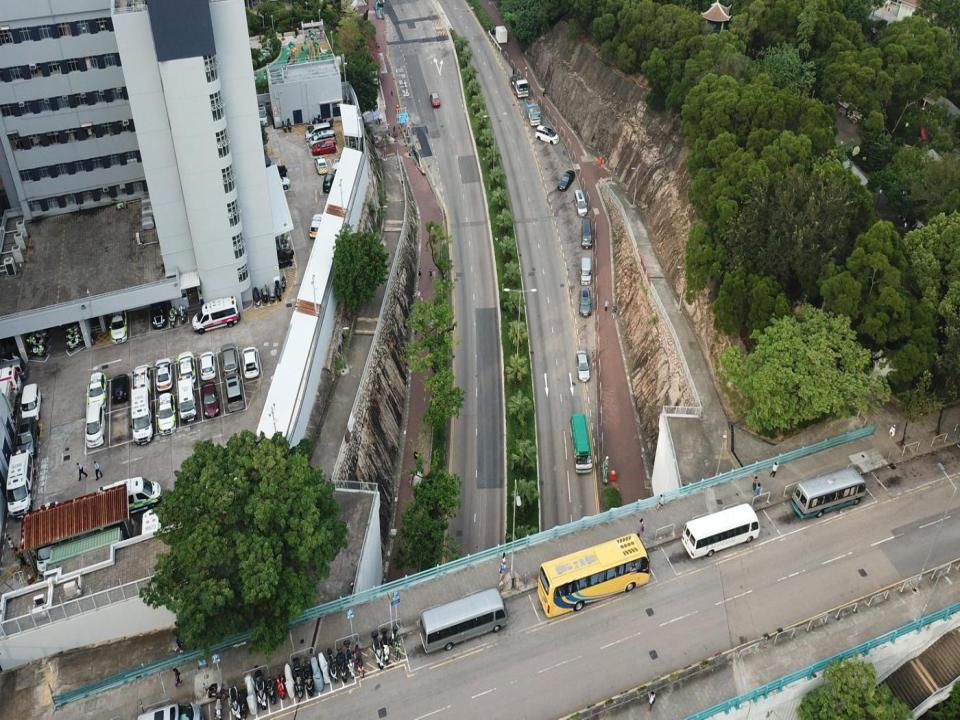bus: (538, 534, 650, 616), (420, 587, 507, 652), (681, 502, 759, 559), (789, 466, 865, 521), (570, 413, 592, 473)
car: (86, 371, 108, 411), (156, 392, 176, 435), (108, 307, 128, 344), (132, 364, 152, 398), (202, 381, 220, 418), (154, 357, 173, 391), (177, 351, 196, 385), (220, 343, 238, 378), (241, 346, 259, 379), (111, 374, 130, 402), (199, 351, 216, 380), (150, 299, 166, 329), (576, 350, 590, 382), (308, 214, 326, 238), (558, 170, 575, 191), (266, 176, 290, 190), (332, 158, 352, 174), (313, 156, 328, 174), (430, 91, 440, 108)
truck: (508, 74, 530, 99), (524, 96, 541, 126)
van: (96, 476, 163, 517), (35, 500, 65, 576), (6, 450, 36, 518), (191, 295, 240, 334), (130, 384, 153, 444), (141, 507, 166, 554), (136, 703, 205, 719), (15, 417, 40, 458), (85, 402, 106, 447), (178, 375, 197, 422), (19, 383, 42, 421), (0, 366, 22, 396), (0, 357, 27, 381), (304, 121, 330, 142), (535, 124, 559, 144), (309, 130, 335, 148), (574, 188, 588, 217), (579, 287, 592, 315), (581, 217, 592, 248), (580, 257, 592, 284), (256, 102, 269, 126), (323, 173, 336, 192)
